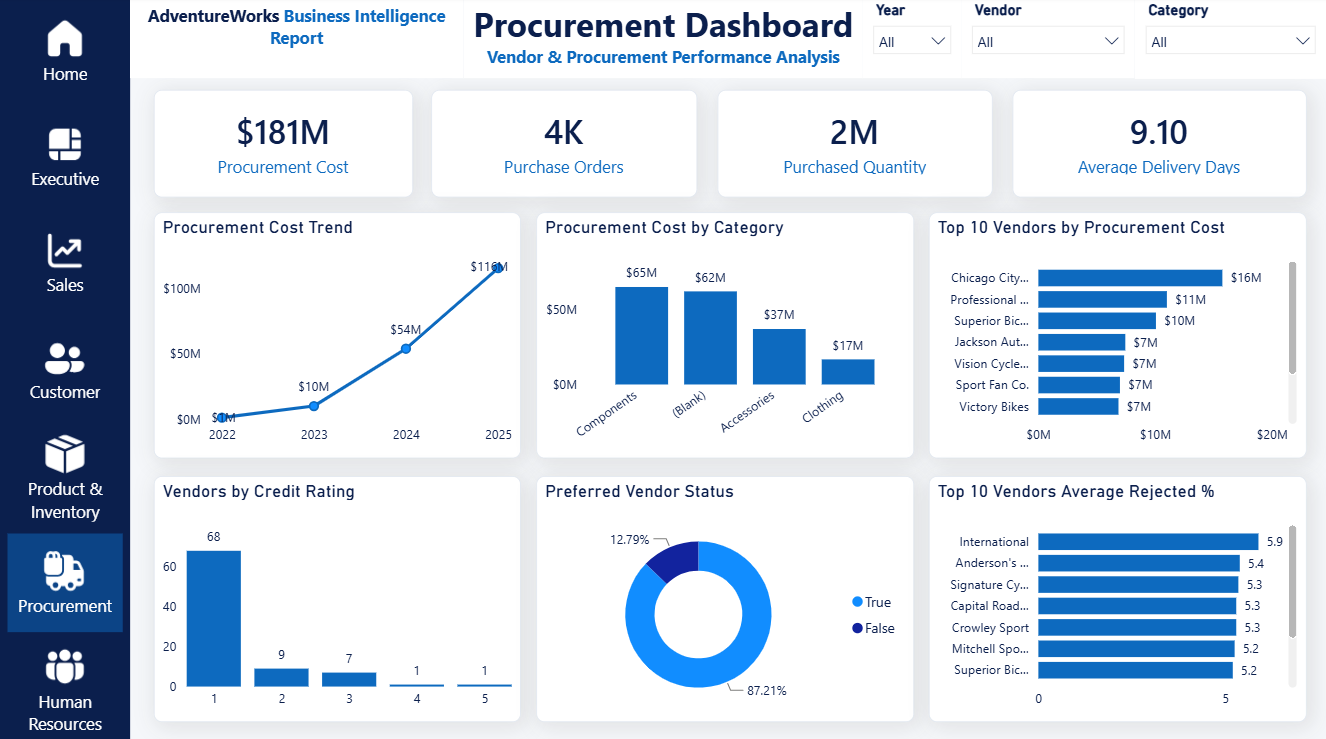

The page's visual inventory and layout, read from the dashboard file:
{"tool":"powerbi","page":{"name":"Procurement Dashboard","canvas":[1280,720],"ordinal":5},"visuals":[{"type":"cardVisual","title":"Procurement Cost","fields":{"Data":["Measures (2).Procurement Cost"]},"box":[148,90.5,250.7,103.9],"z":0},{"type":"cardVisual","title":"Purchase Orders","fields":{"Data":["Measures (2).Purchase Orders"]},"box":[415.8,90.5,256.8,103.9],"z":1000},{"type":"cardVisual","title":"Purchased Quantity","fields":{"Data":["Measures (2).Purchased Quantity"]},"box":[692.1,90.5,265.4,103.9],"z":2000},{"type":"cardVisual","title":"Average Delivery Days","fields":{"Data":["Measures (2).Average Delivery Days"]},"box":[977,90.5,283.7,103.9],"z":3000},{"type":"lineChart","title":"Procurement Cost Trend","fields":{"Y":["Measures (2).Procurement Cost"],"Category":["gold fact_purchase.OrderDate.Variation.Date Hierarchy.Year"]},"box":[148,209.1,354.6,237.2],"z":4000},{"type":"columnChart","title":"Procurement Cost by Category","fields":{"Y":["Measures (2).Procurement Cost"],"Category":["gold dim_product.CategoryName"]},"box":[517.3,209.1,364.4,237.2],"z":5000},{"type":"barChart","title":"Top 10 Vendors by Procurement Cost","fields":{"Y":["Measures (2).Procurement Cost"],"Category":["gold dim_vendor.VendorName"]},"box":[896.3,209.1,364.4,237.2],"z":6000},{"type":"columnChart","title":"Vendors by Credit Rating","fields":{"Y":["CountNonNull(gold dim_vendor.VendorID)"],"Category":["gold dim_vendor.CreditRating"]},"box":[148,463.5,354.6,237.2],"z":7000},{"type":"donutChart","title":"Preferred Vendor Status","fields":{"Y":["CountNonNull(gold dim_vendor.VendorID)"],"Category":["gold dim_vendor.PreferredVendorStatus"]},"box":[517.3,463.5,364.4,237.2],"z":8000},{"type":"barChart","title":"Top 10 Vendors Average Rejected %","fields":{"Y":["Measures (2).Average Rejected %"],"Category":["gold dim_vendor.VendorName"]},"box":[896.3,463.5,364.4,237.2],"z":9000},{"type":"slicer","fields":{"Values":["gold dim_vendor.VendorName"]},"box":[928.1,0,167.5,79.5],"z":10000},{"type":"slicer","fields":{"Values":["gold dim_product.CategoryName"]},"box":[1095.4,0,184.6,79.6],"z":11000},{"type":"textbox","box":[447.6,0,385.2,79.5],"z":12000},{"type":"shape","box":[0,0,126,720],"z":13000},{"type":"actionButton","box":[7.3,4.9,111.3,95.4],"z":14000},{"type":"actionButton","box":[7.3,106.4,111.3,95.4],"z":15000},{"type":"actionButton","box":[7.3,209.1,111.3,95.4],"z":16000},{"type":"actionButton","box":[7.3,313,111.3,95.4],"z":17000},{"type":"actionButton","box":[7.3,415.8,111.3,95.4],"z":18000},{"type":"actionButton","box":[7.3,518.5,111.3,95.4],"z":19000},{"type":"actionButton","box":[7.3,621.2,111.3,95.4],"z":20000},{"type":"slicer","fields":{"Values":["gold fact_sales.OrderYear"]},"box":[832.7,0,95.4,79.5],"z":21000},{"type":"textbox","box":[126,2.4,321.6,77],"z":22000}]}

Visuals, with their boxes on the page's 1280x720 design canvas (x1, y1, x2, y2). These are canvas units, not pixel positions in the 1326x739 screenshot, which may show the page scaled, cropped or inside an application window:
"Procurement Cost" cardVisual: <region>148, 90, 399, 194</region>
"Purchase Orders" cardVisual: <region>416, 90, 673, 194</region>
"Purchased Quantity" cardVisual: <region>692, 90, 958, 194</region>
"Average Delivery Days" cardVisual: <region>977, 90, 1261, 194</region>
"Procurement Cost Trend" lineChart: <region>148, 209, 503, 446</region>
"Procurement Cost by Category" columnChart: <region>517, 209, 882, 446</region>
"Top 10 Vendors by Procurement Cost" barChart: <region>896, 209, 1261, 446</region>
"Vendors by Credit Rating" columnChart: <region>148, 464, 503, 701</region>
"Preferred Vendor Status" donutChart: <region>517, 464, 882, 701</region>
"Top 10 Vendors Average Rejected %" barChart: <region>896, 464, 1261, 701</region>
slicer - gold dim_vendor.VendorName: <region>928, 0, 1096, 80</region>
slicer - gold dim_product.CategoryName: <region>1095, 0, 1280, 80</region>
textbox: <region>448, 0, 833, 80</region>
shape: <region>0, 0, 126, 720</region>
actionButton: <region>7, 5, 119, 100</region>
actionButton: <region>7, 106, 119, 202</region>
actionButton: <region>7, 209, 119, 304</region>
actionButton: <region>7, 313, 119, 408</region>
actionButton: <region>7, 416, 119, 511</region>
actionButton: <region>7, 518, 119, 614</region>
actionButton: <region>7, 621, 119, 717</region>
slicer - gold fact_sales.OrderYear: <region>833, 0, 928, 80</region>
textbox: <region>126, 2, 448, 79</region>
